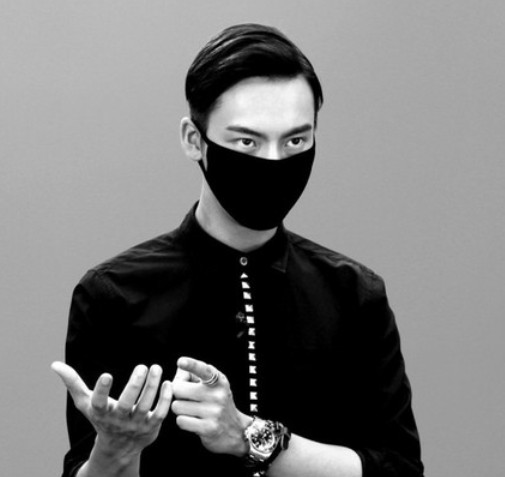face_mask: (203, 76, 315, 222)
